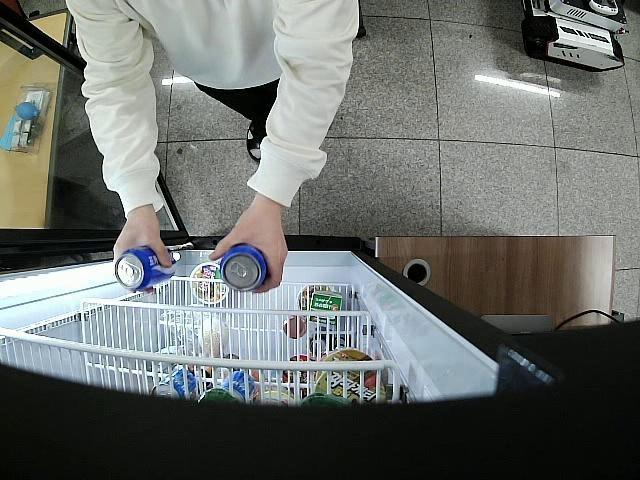13_pocariSweat: (115, 248, 176, 291), (220, 245, 268, 294)
